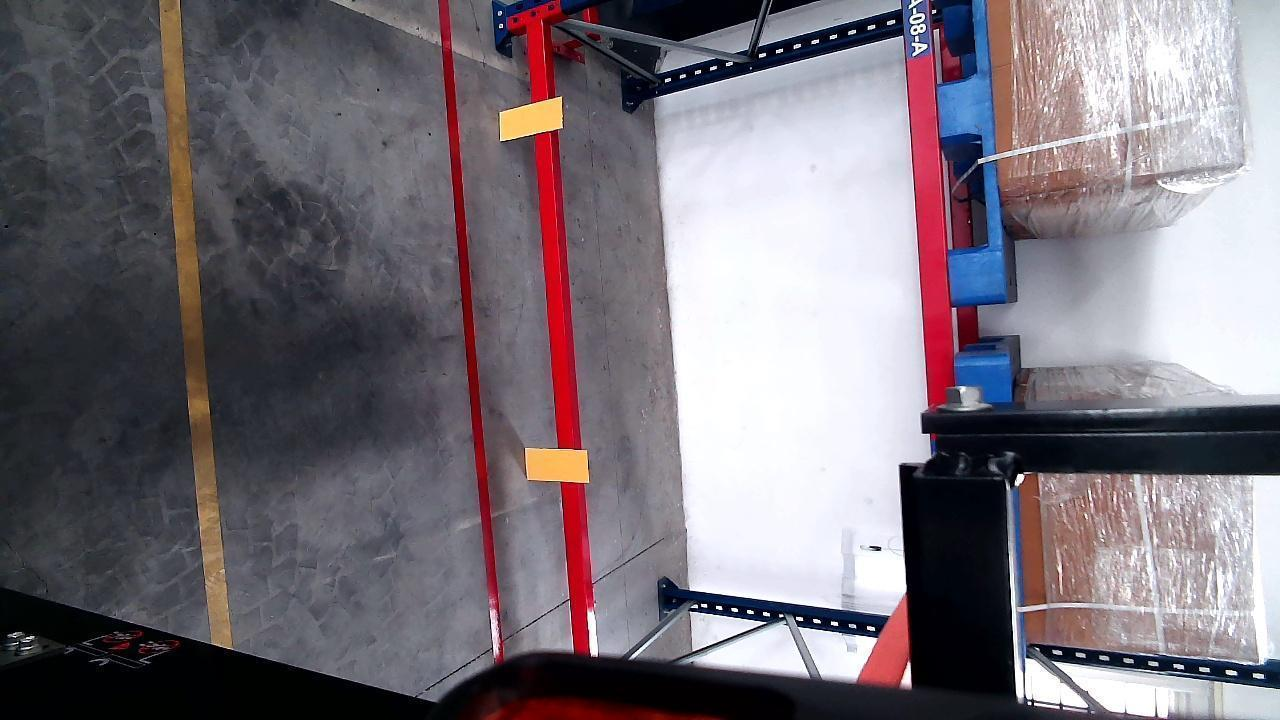red_line: (436, 1, 506, 664)
yellow_line: (156, 0, 232, 645)
